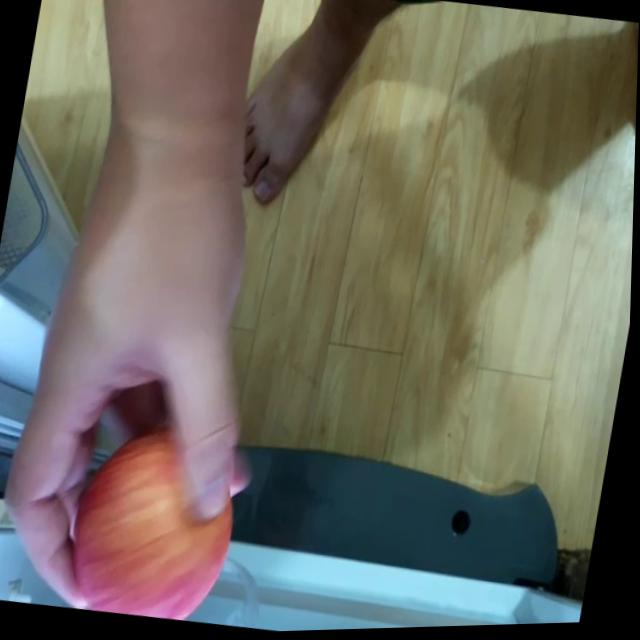apple: (66, 424, 246, 629)
